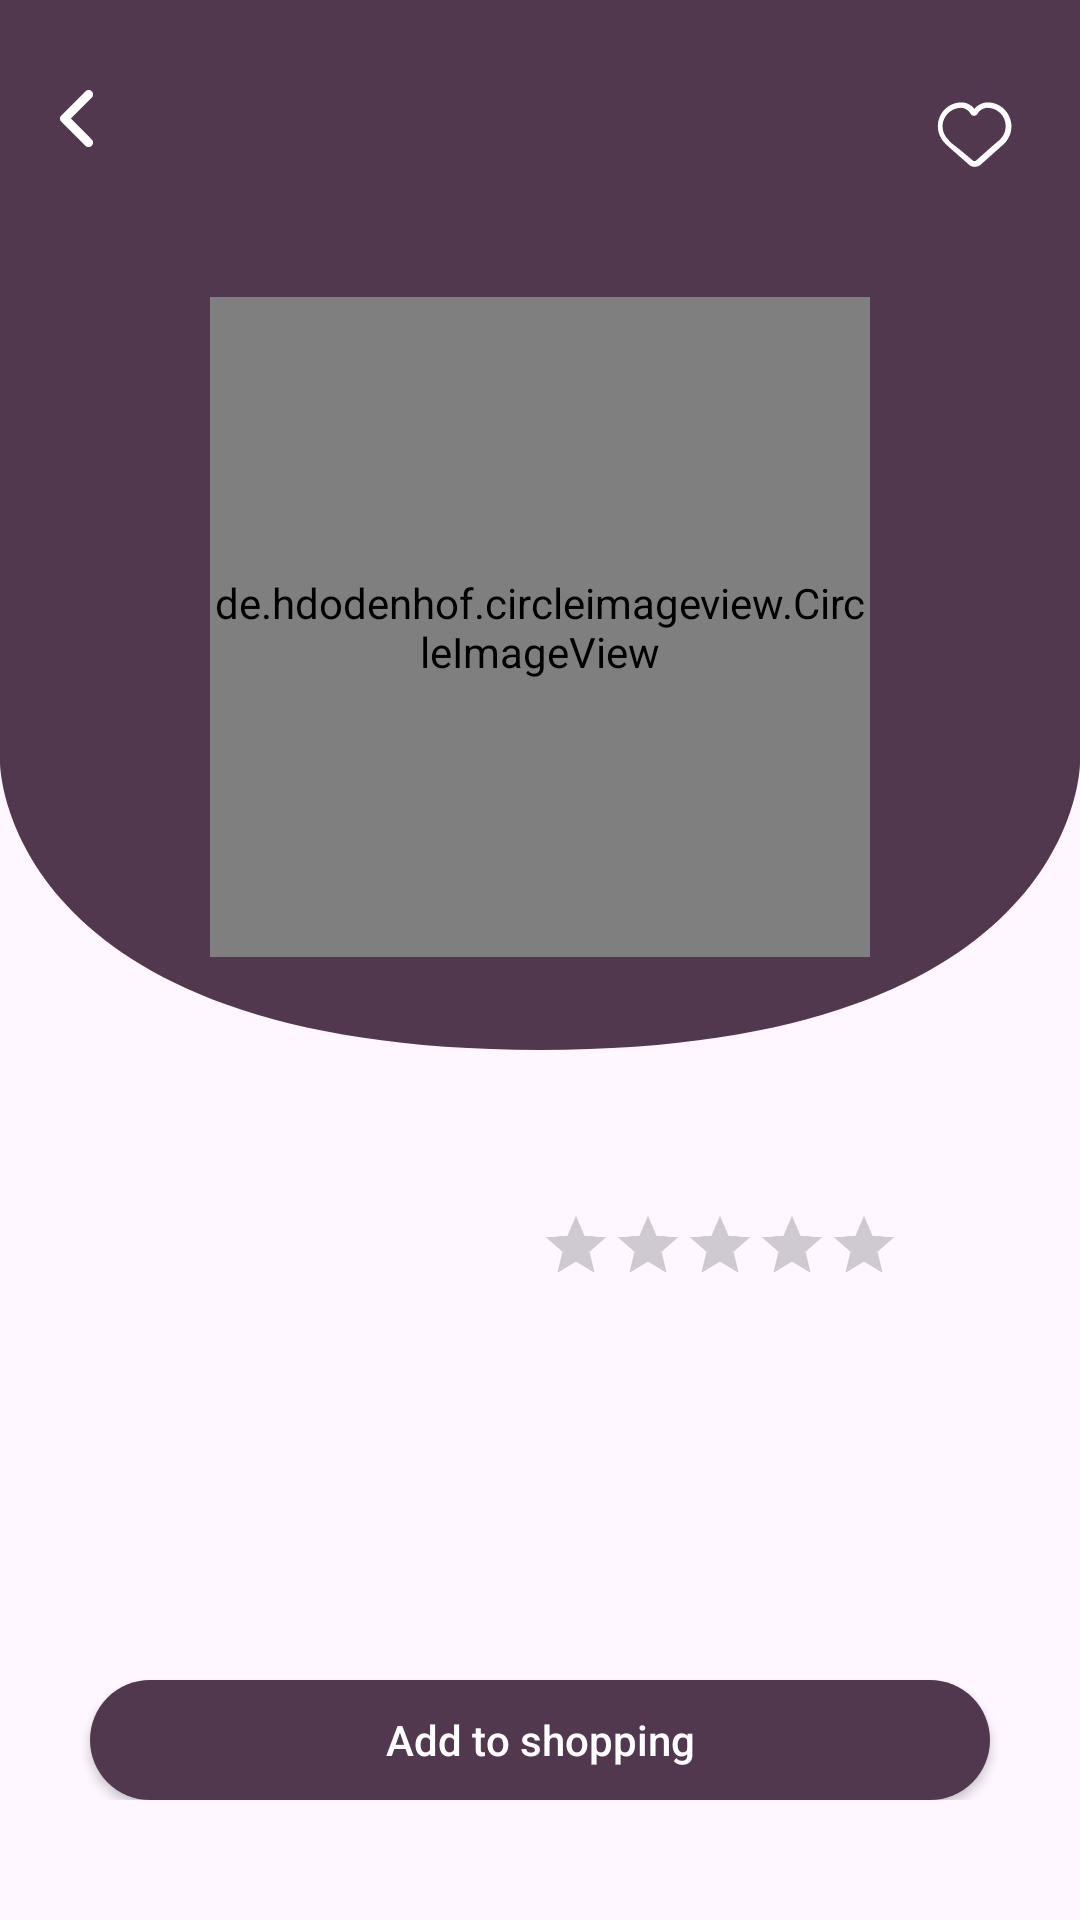

Screen size 1080x1920. Icon name, then its center in pixels as (x=x, y=y):
back: (x=76, y=118)
favorites: (x=974, y=134)
